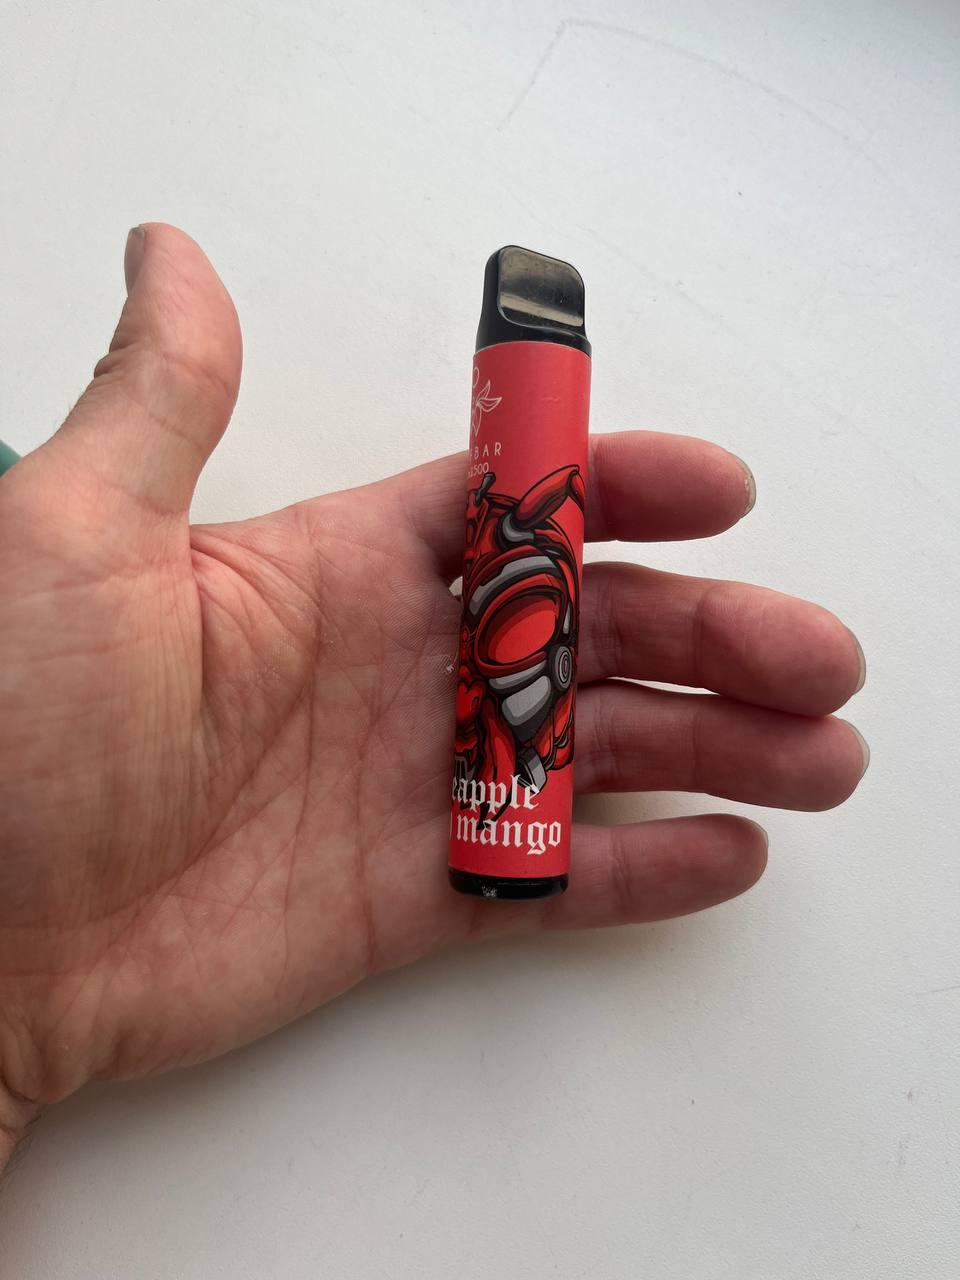Vape: (449, 246, 591, 899)
